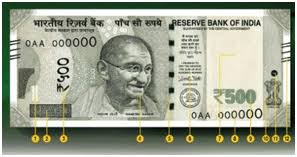fiveHundred: (22, 27, 275, 112)
